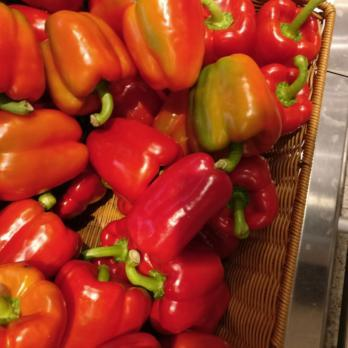Capsicum: (0, 0, 224, 348), (207, 2, 306, 234)
